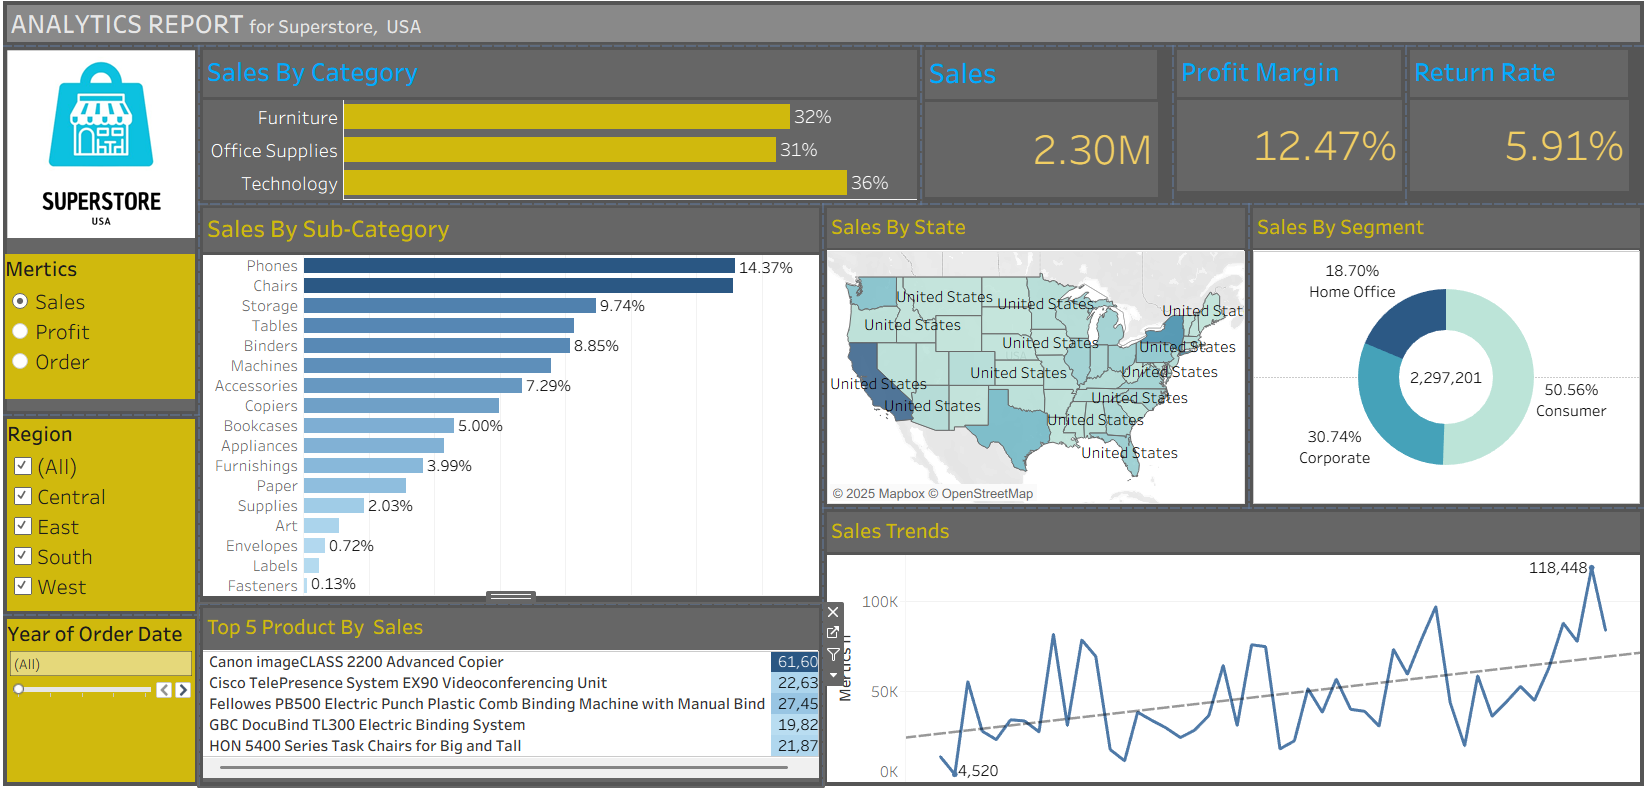

The page's visual inventory and layout, read from the dashboard file:
{"tool":"tableau","page":{"name":"Dashboard 1","canvas":[1000,1000],"units":"permille","ordinal":0},"visuals":[{"type":"text","box":[4.7,10,990.6,56.2]},{"type":"image","param":"Image/Logo.jpg","box":[4.7,66.2,118.3,460.7]},{"type":"worksheet","title":"By Category","mark":"Bar","rows":["Category"],"cols":["Calculation_1142788412040306690"],"box":[123,66.2,436.2,197.3]},{"type":"worksheet","title":"Metrics","mark":"Automatic","box":[559.1,66.2,152,197.3]},{"type":"worksheet","title":"Profit Margin","mark":"Automatic","box":[711.2,66.2,140.6,197.3]},{"type":"worksheet","title":"Return Rate","mark":"Automatic","box":[851.8,66.2,143.6,197.3]},{"type":"worksheet","title":" By Sub-Category","mark":"Automatic","rows":["Sub-Category"],"cols":["Calculation_1142788412040306690"],"box":[123,263.4,376.7,513.1]},{"type":"worksheet","title":"State","mark":"Automatic","box":[499.7,263.4,257.1,379.5]},{"type":"worksheet","title":"Segment","mark":"Pie","rows":["Calculation_1376131170189647872","Calculation_1376131170189647872"],"box":[756.8,263.4,238.5,379.5]},{"type":"parameter","param":"[Parameters].[Parameter 1]","box":[5.9,325.8,114.8,181]},{"type":"filter","title":"Metrics","param":"[federated.1w5emf902lyupk136srhe1ops6il].[none:Region:nk]","box":[4.7,526.8,118.3,249.7]},{"type":"worksheet","title":"Trends","mark":"Automatic","rows":["Calculation_1142788412040306690"],"cols":["Order Date"],"box":[499.7,642.9,495.6,347.1]},{"type":"filter","title":"Metrics","param":"[federated.1w5emf902lyupk136srhe1ops6il].[yr:Order Date:ok]","box":[4.7,776.5,118.3,213.5]},{"type":"worksheet","title":"Top 5 Product By ","mark":"Square","rows":["Product Name"],"box":[123,776.5,376.7,213.5]}]}

Visuals, with their boxes on the dashboard's canvas, which has no fixed pixel size, in thousandths of its width and height (x1, y1, x2, y2). These are canvas units, not pixel positions in the 1646x788 screenshot, which may show the page scaled, cropped or inside an application window:
text: [5, 10, 995, 66]
image: [5, 66, 123, 527]
"By Category" worksheet (Bar marks): [123, 66, 559, 264]
"Metrics" worksheet: [559, 66, 711, 264]
"Profit Margin" worksheet: [711, 66, 852, 264]
"Return Rate" worksheet: [852, 66, 995, 264]
" By Sub-Category" worksheet: [123, 263, 500, 776]
"State" worksheet: [500, 263, 757, 643]
"Segment" worksheet (Pie marks): [757, 263, 995, 643]
parameter: [6, 326, 121, 507]
"Metrics" filter: [5, 527, 123, 776]
"Trends" worksheet: [500, 643, 995, 990]
"Metrics" filter: [5, 776, 123, 990]
"Top 5 Product By " worksheet (Square marks): [123, 776, 500, 990]
